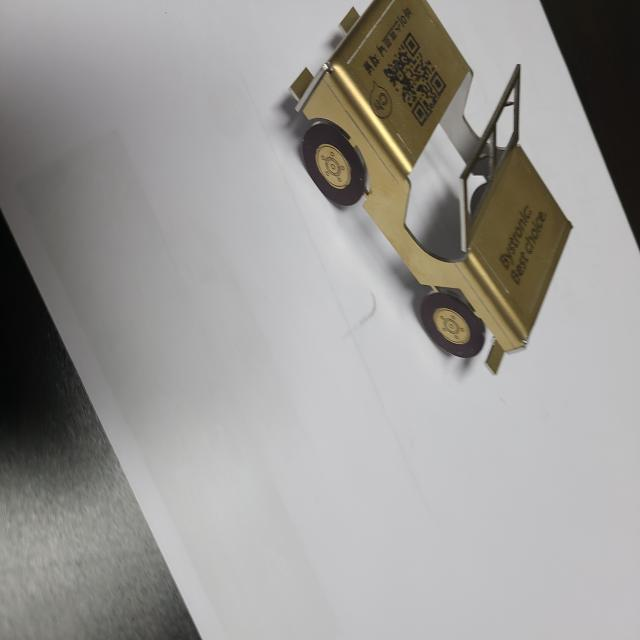tire: (304, 121, 365, 208), (419, 290, 486, 360)
